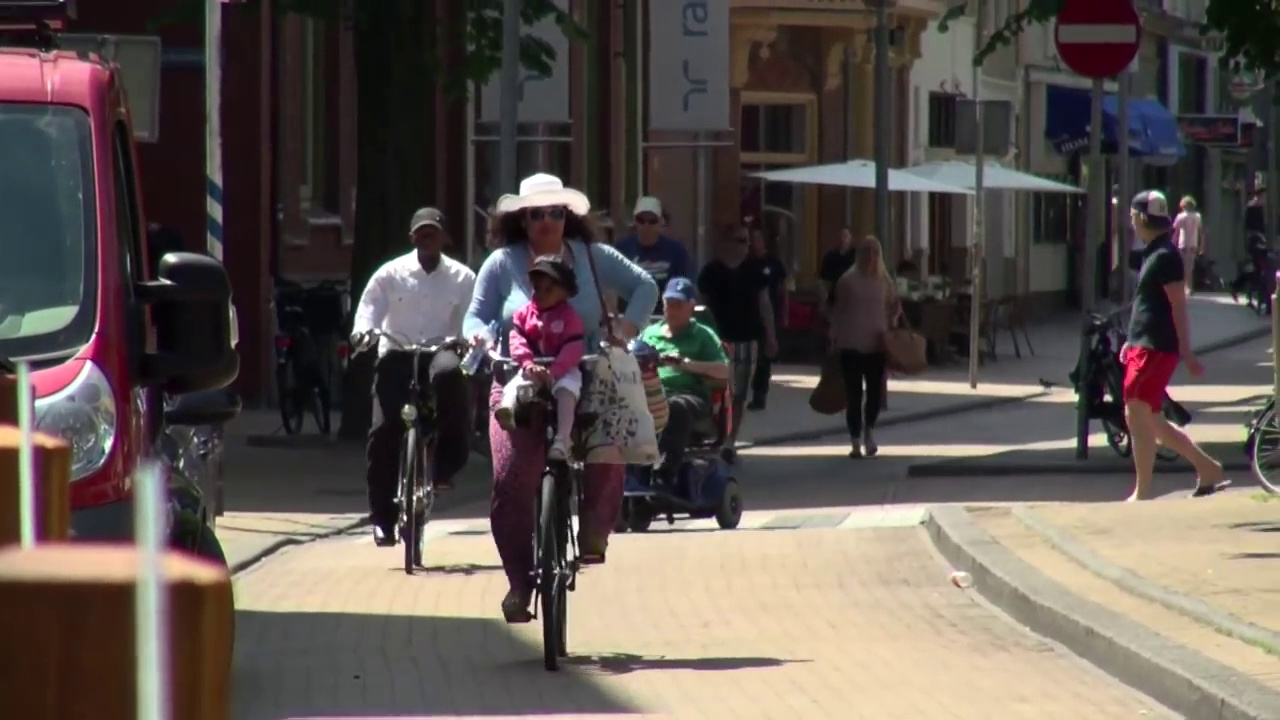cyclist_front: (482, 161, 633, 658), (354, 200, 471, 584)
